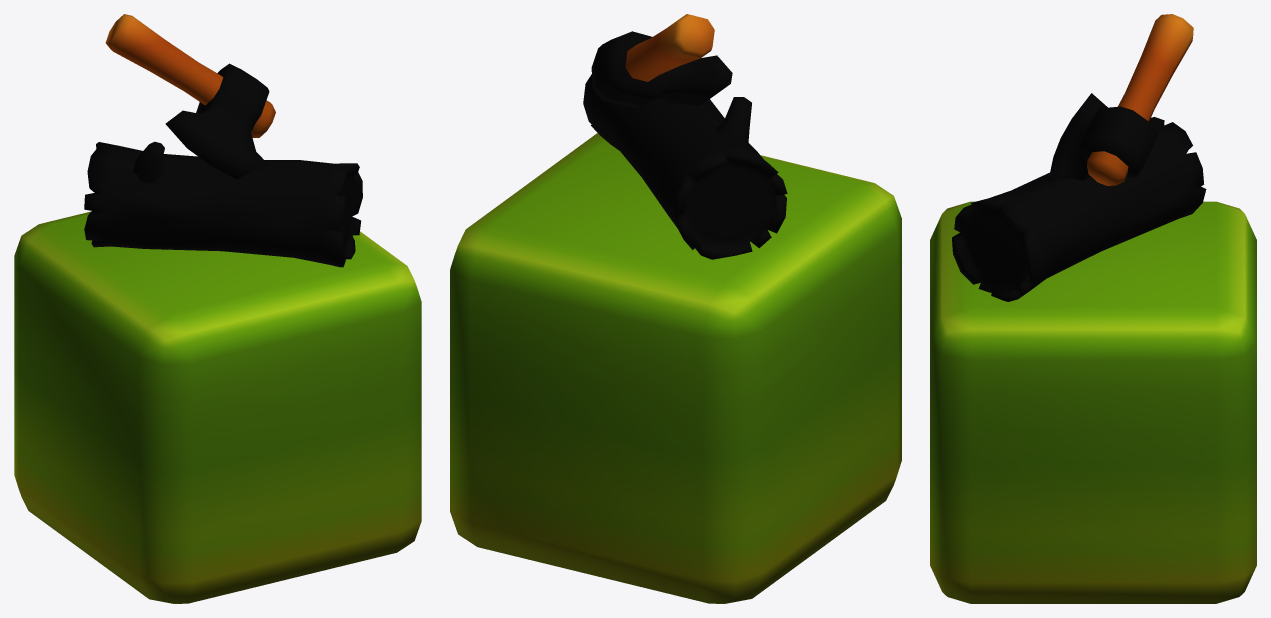
Rendered from block_tree_2 (2).fbx.
3 renders of one model, left to right at view 1: azimuth 30°, elevation 25°; view 2: azimuth 150°, elevation 25°; view 3: azimuth 270°, elevation 25°, orthographic. The views are drawn at different scales.
Parts seen in each view (by area): view 1: block_tree_2; view 2: block_tree_2; view 3: block_tree_2.
Boxes of the visible parts, <box> form: block_tree_2: <box>14,14,421,603</box>; block_tree_2: <box>450,14,901,603</box>; block_tree_2: <box>930,14,1256,603</box>.
Bounding box in the file's own units: 200 × 345 × 200.
